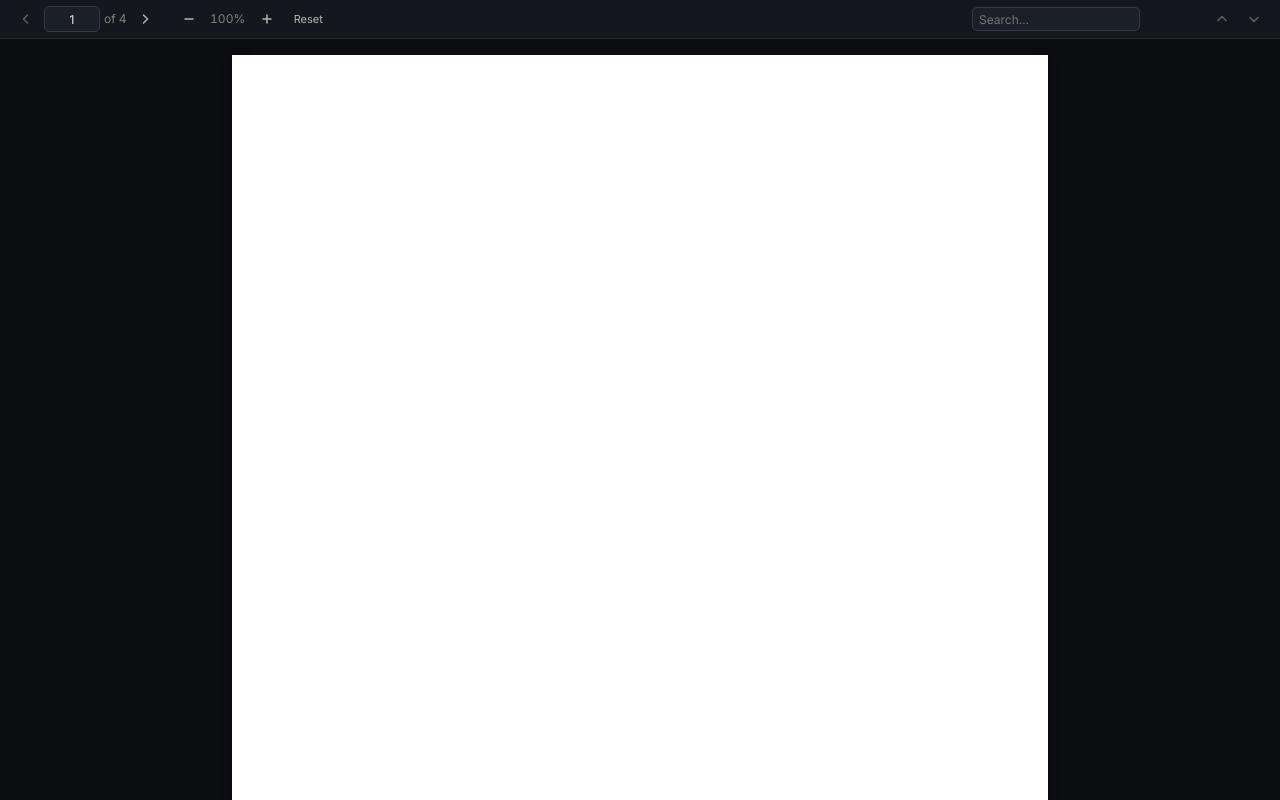
Test: PDV-FR-SAIG: page navigation › PDV-FR-SAIG: Previous page is disabled on the first page and Next page on the last
Expected: the button named "Previous page" is disabled, [12,7,40,31]
Click the button named "Next page" at (145, 19), box [131,7,159,31]
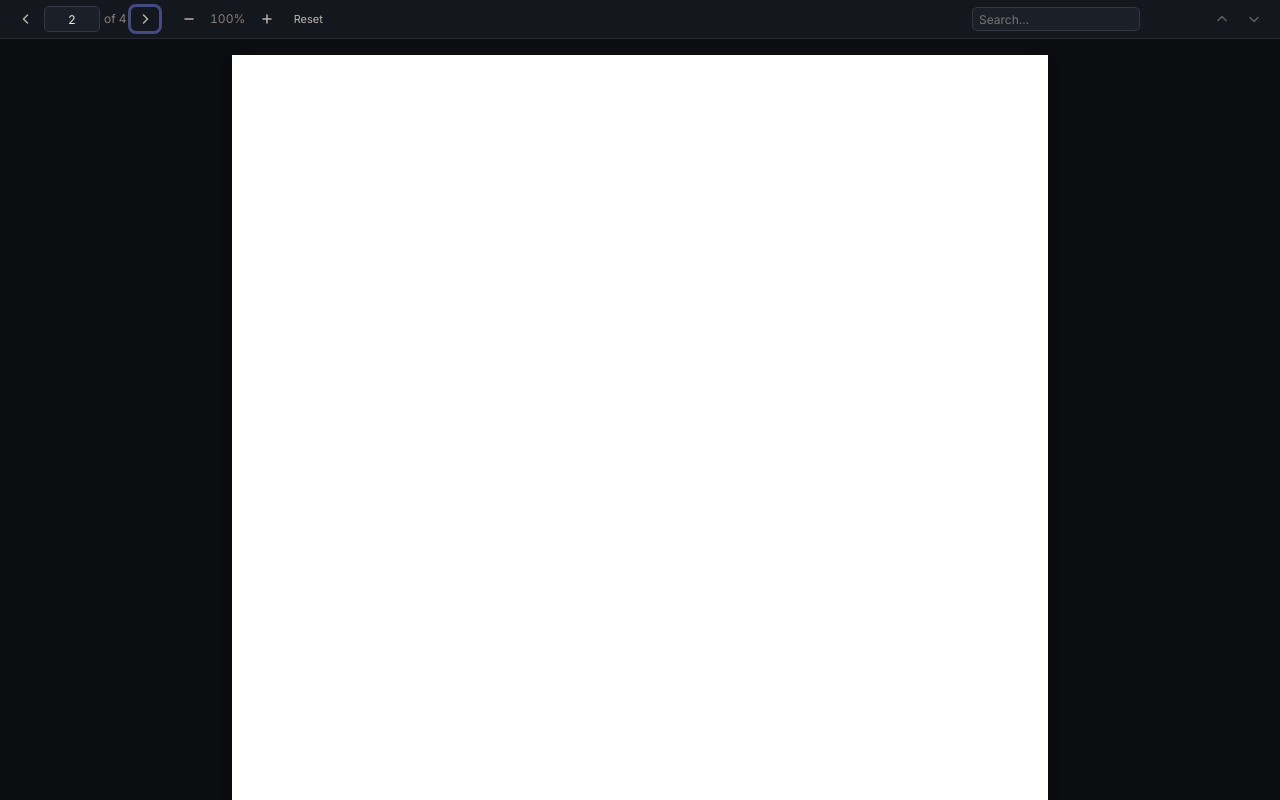
Click the button named "Next page" at (145, 19), box [131,7,159,31]
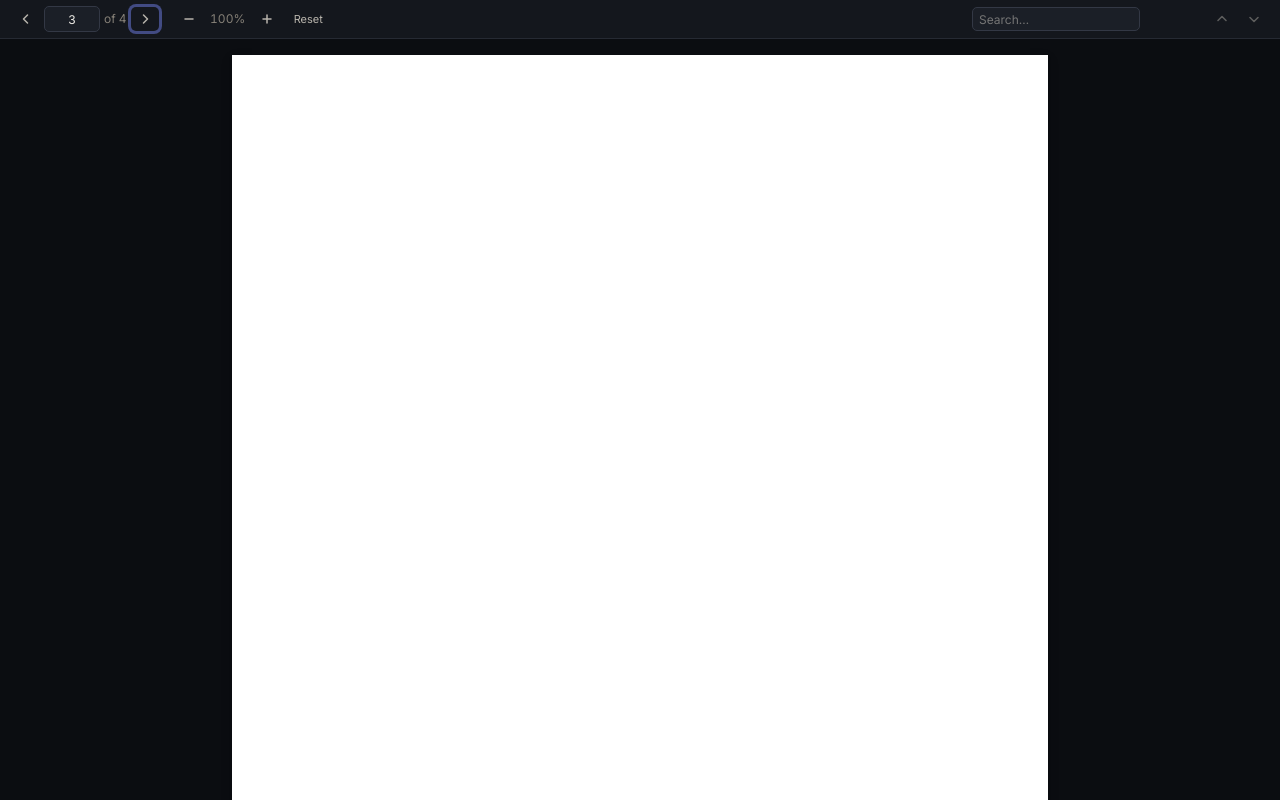
Click the button named "Next page" at (145, 19), box [131,7,159,31]
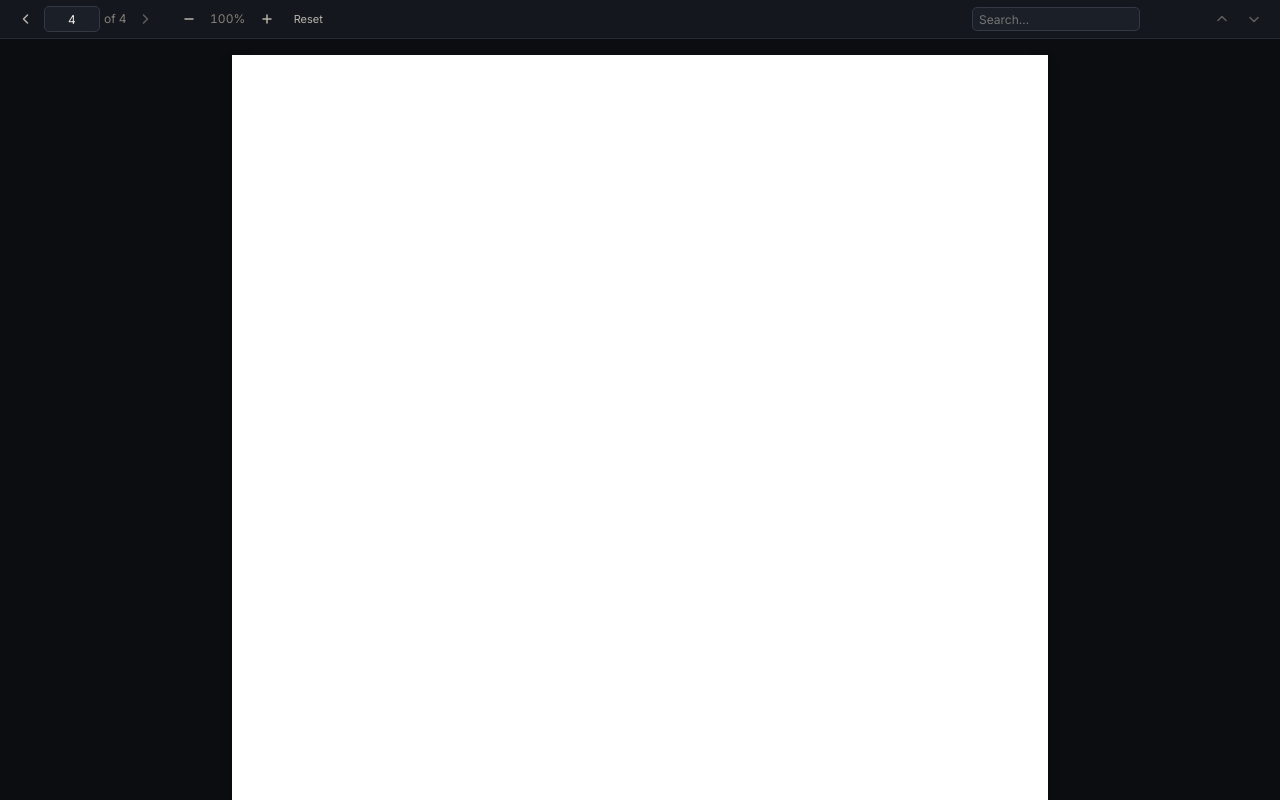
Result: the button named "Previous page" is enabled
Result: the field named "Page number" holds "4" at [44,6,100,32]
Result: the button named "Next page" is disabled at [131,7,159,31]
Click the button named "Previous page" at (26, 19), box [12,7,40,31]
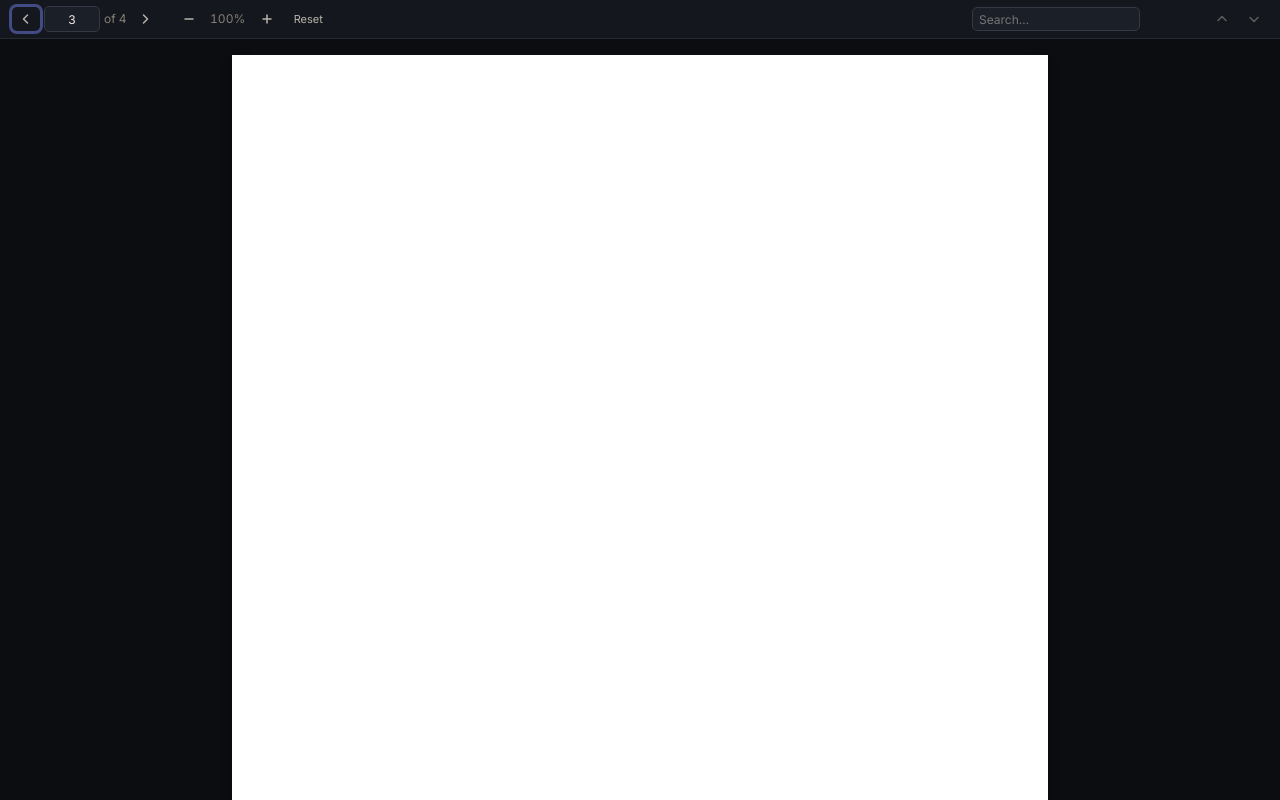
Result: the field named "Page number" holds "3" at [44,6,100,32]
Result: the button named "Next page" is enabled at [131,7,159,31]
